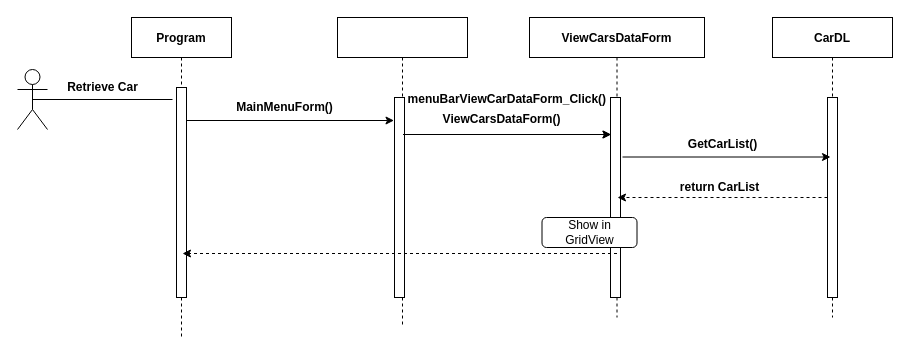
The diagram is 910 pixels wide and 355 high, and some of its shapes have lost their labels. Each missing label, with the box of its shape:
Actor: (16, 68, 48, 130)
AdminMainMenuForm: (336, 16, 468, 328)
